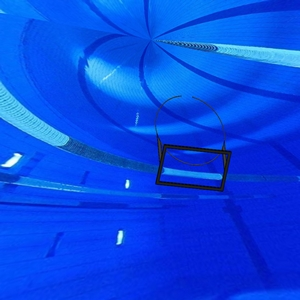circle: (152, 94, 231, 194)
